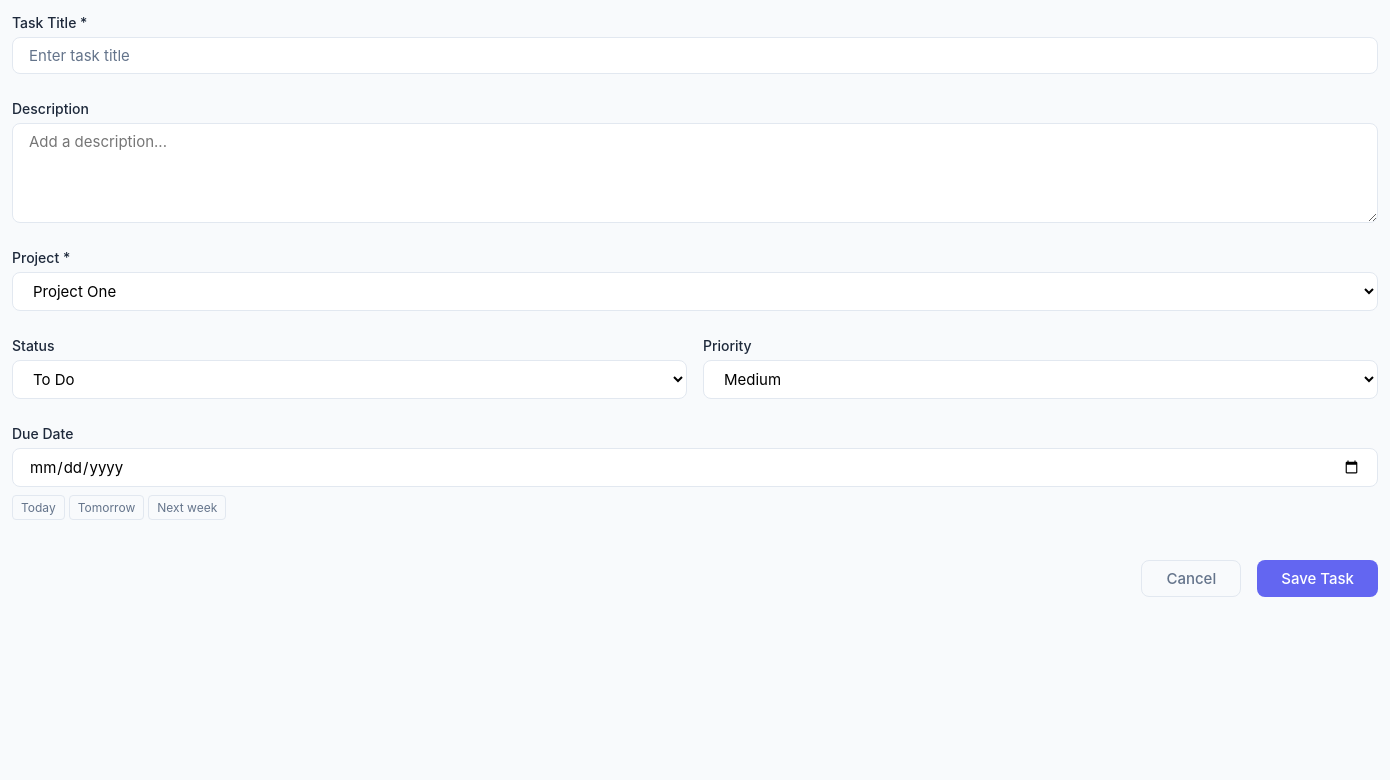
TaskForm › shows validation error for short title
Type "A" into the field labelled "Task Title *" at (695, 56), box [12,37,1378,74]
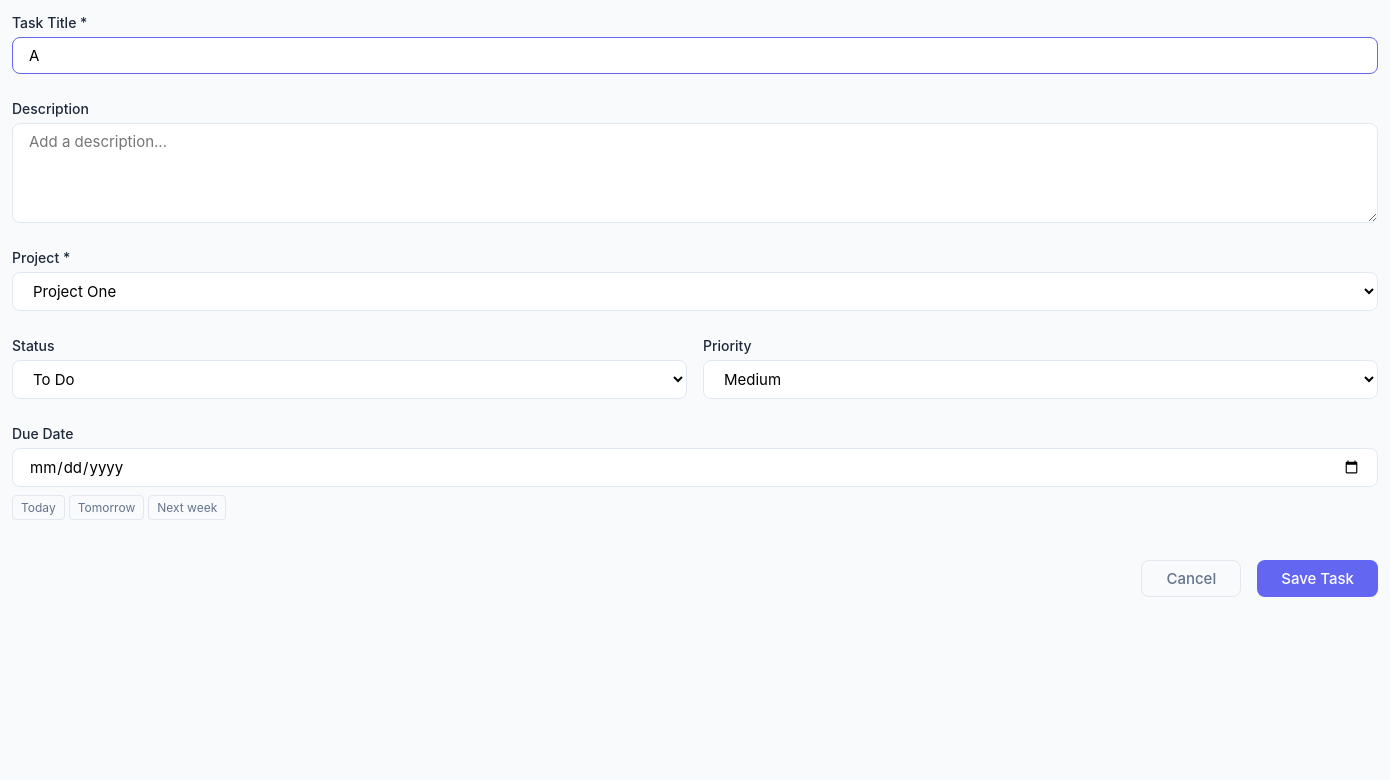
Click the button "Save Task" at (1318, 578), box [1257,560,1378,597]
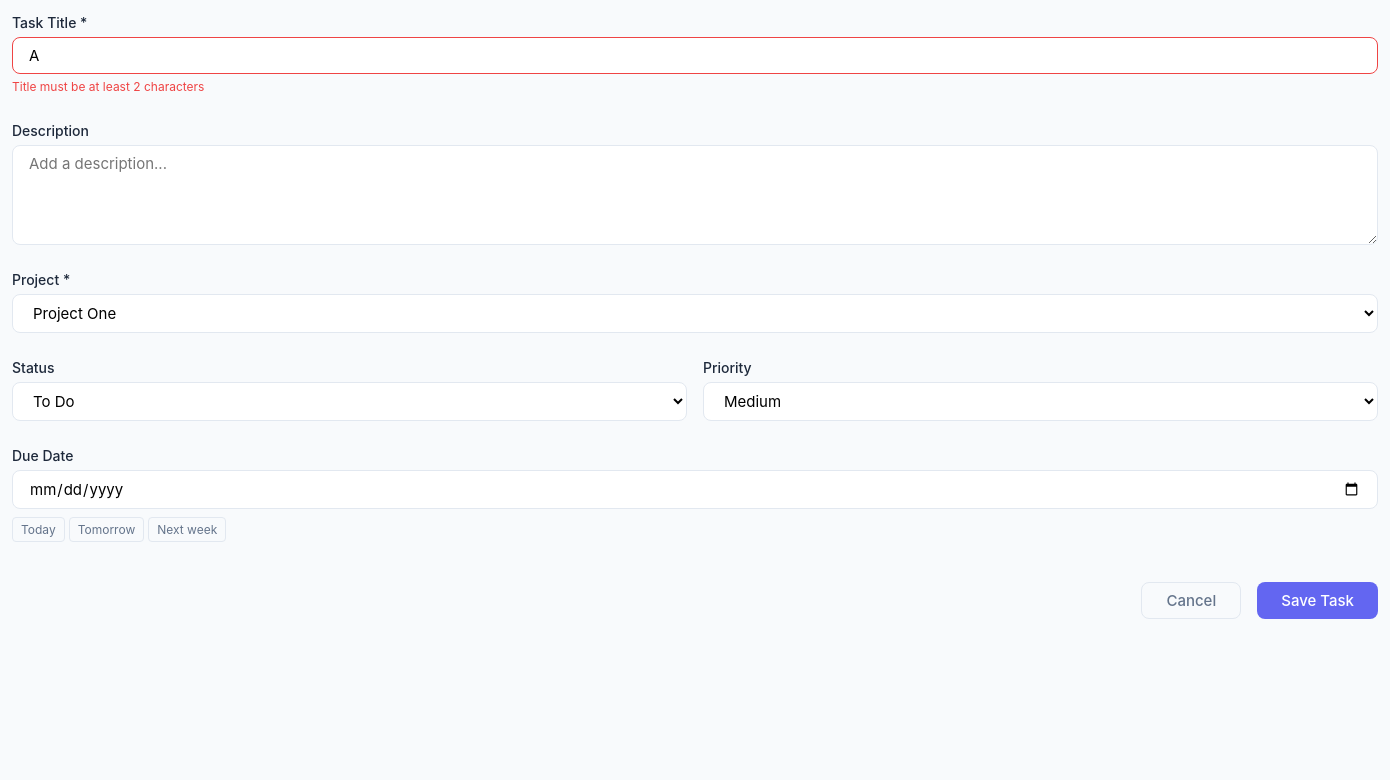
Check: the text "Title must be at least 2 characters" is shown, box [12,79,204,94]
